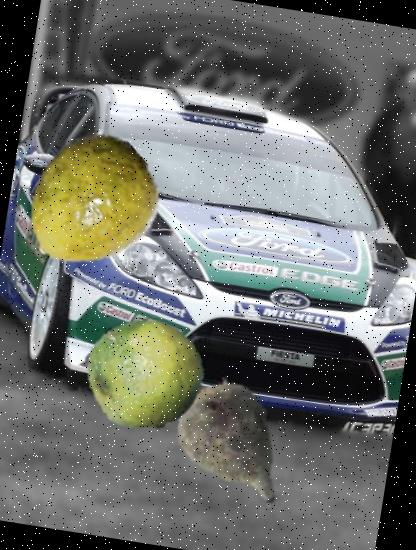Beetroot: (150, 362, 320, 532)
Guava: (11, 124, 170, 282)
Limes: (79, 308, 214, 443)
